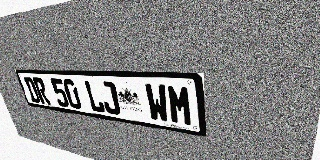0: (62, 79, 83, 110)
5: (50, 78, 70, 108)
D: (23, 77, 41, 103)
J: (98, 81, 121, 116)
L: (83, 80, 106, 113)
M: (166, 84, 193, 127)
R: (32, 78, 51, 105)
W: (144, 83, 170, 123)
